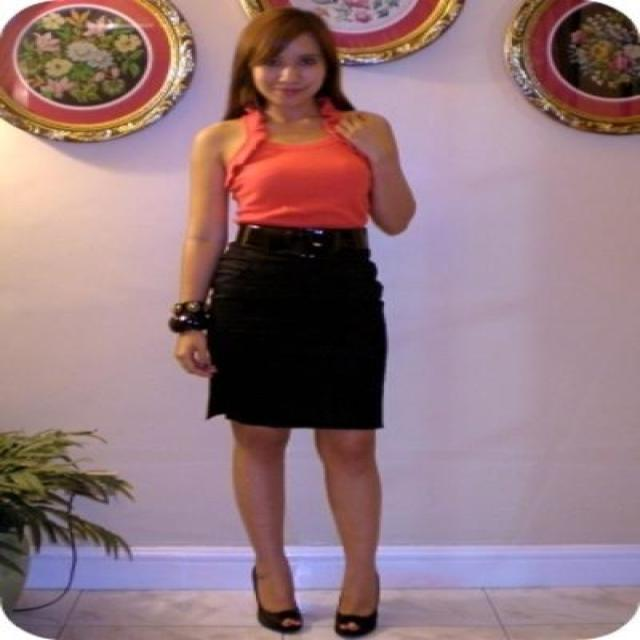shirt: (221, 94, 373, 232)
shoe: (258, 604, 378, 638)
skirt: (202, 243, 386, 429)
